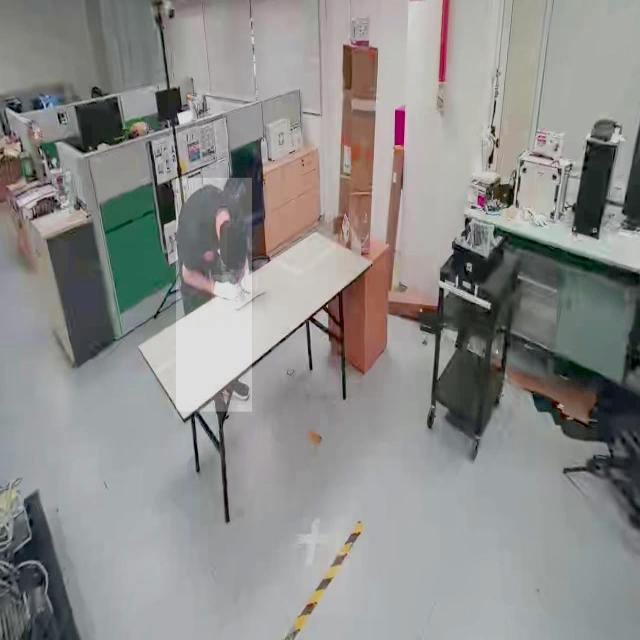hand_glove: (212, 275, 234, 310), (238, 262, 258, 298)
head_nohelmet: (226, 222, 248, 270)
person: (176, 178, 252, 412)
